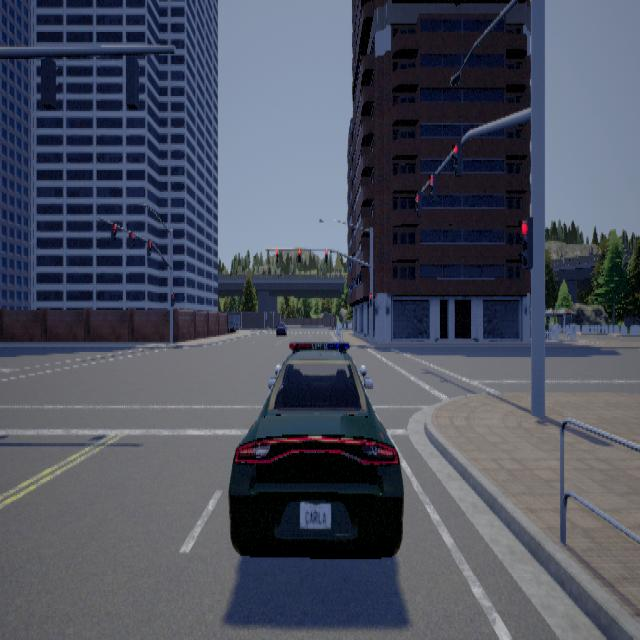red_light: (517, 215, 532, 268), (451, 140, 461, 175), (428, 172, 436, 200), (414, 190, 421, 216), (110, 223, 116, 242), (128, 230, 134, 248), (146, 240, 152, 255), (170, 293, 174, 305), (369, 292, 372, 306), (325, 249, 328, 262), (298, 248, 301, 261), (276, 248, 278, 262)
vehicle: (227, 340, 403, 558)
